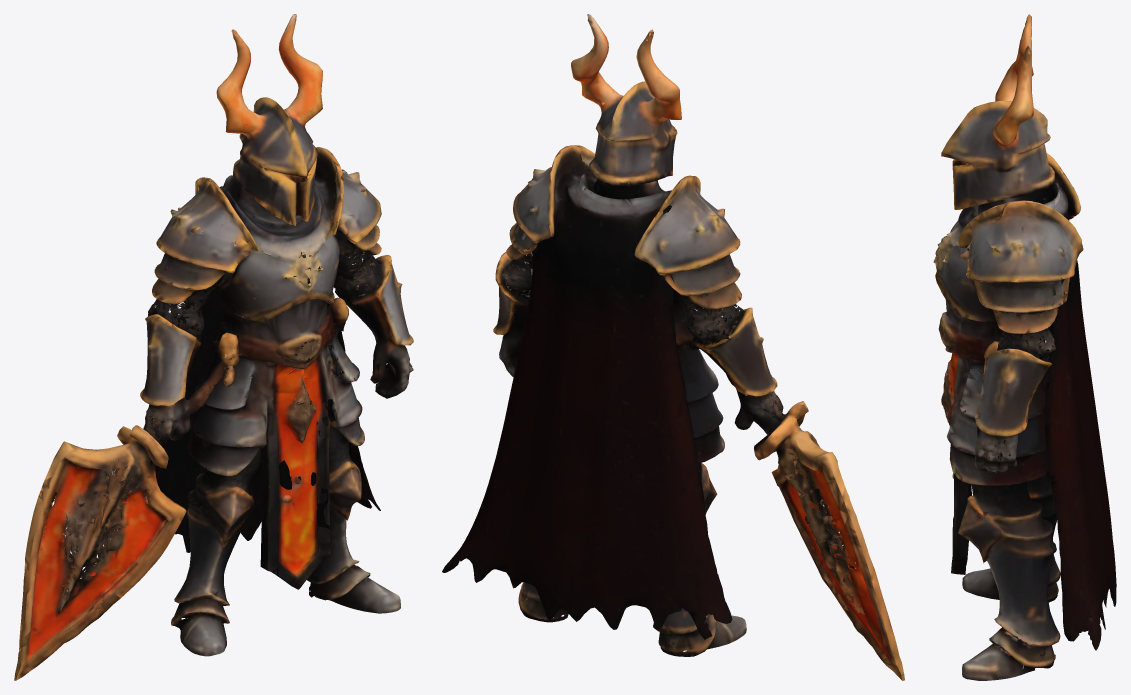
The model's file is fig_boss_ashen_inquisitor.glb.
3 renders of one model, left to right at view 1: azimuth 30°, elevation 25°; view 2: azimuth 150°, elevation 25°; view 3: azimuth 270°, elevation 25°, orthographic. The views are drawn at different scales.
Parts seen in each view (by area): view 1: geometry_0; view 2: geometry_0; view 3: geometry_0.
Part boxes in pixels (x1,y1,x2,y2): geometry_0: [14, 14, 413, 680]; geometry_0: [442, 14, 904, 680]; geometry_0: [933, 14, 1116, 680].
Size of the model in its own units: 0.6661 by 0.9315 by 0.2588.
Materials: 1 (1 with a texture image).
